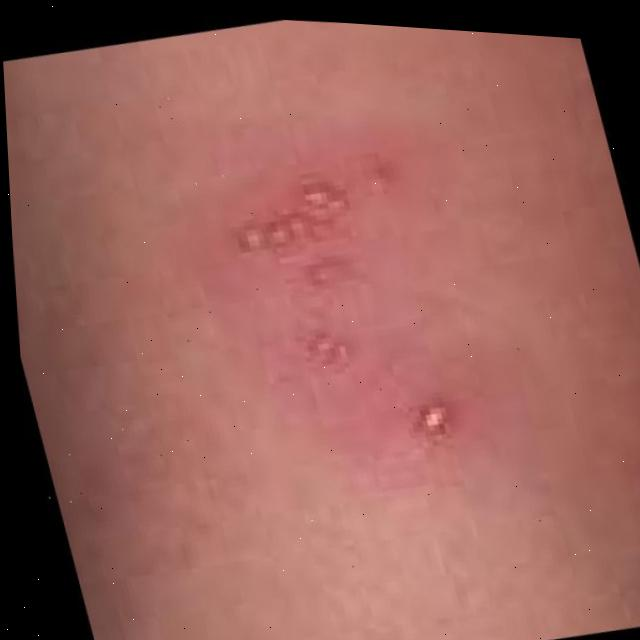Shingles: (247, 133, 449, 450)
